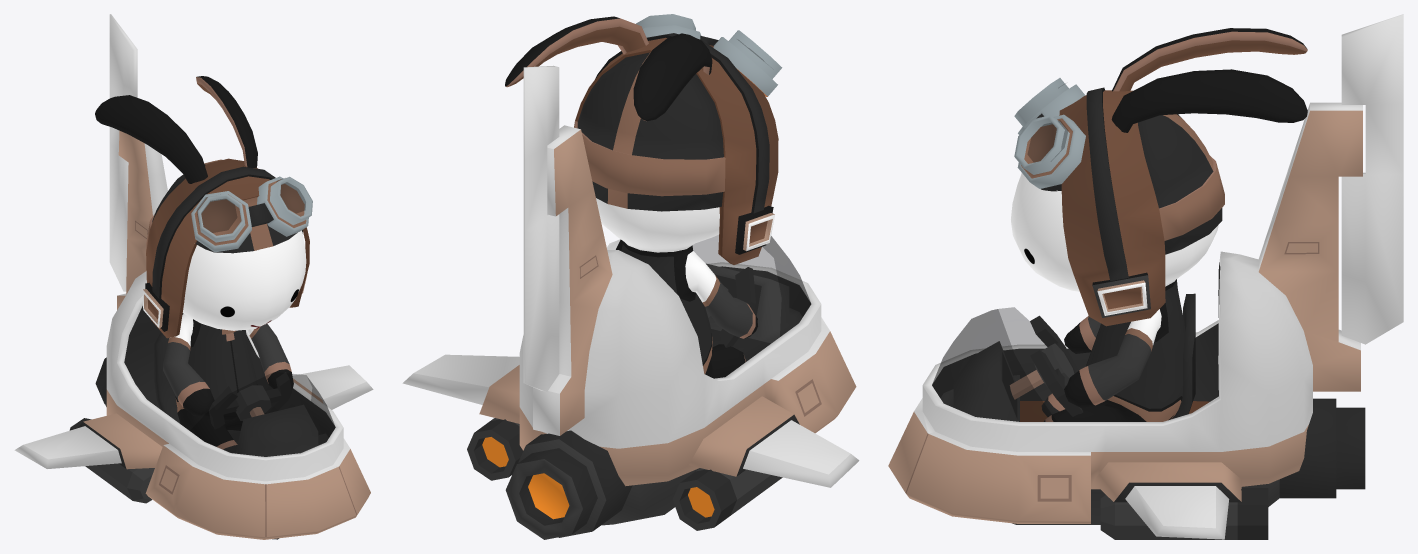
The model's file is airplane.glb.
3 renders of one model, left to right at view 1: azimuth 30°, elevation 25°; view 2: azimuth 150°, elevation 25°; view 3: azimuth 270°, elevation 25°, orthographic. The views are drawn at different scales.
Parts seen in each view (by area): view 1: airplane, airplane_qmimi_hat, airplane_qmimi, airplane_glass, airplane_qmimi_hat_glass; view 2: airplane, airplane_qmimi_hat, airplane_qmimi, airplane_glass; view 3: airplane, airplane_qmimi_hat, airplane_qmimi, airplane_glass, airplane_qmimi_hat_glass.
Boxes of the visible parts, bbox=[...] form: airplane: bbox=[14, 14, 373, 539]; airplane_qmimi_hat: bbox=[95, 76, 312, 338]; airplane_qmimi: bbox=[163, 230, 306, 453]; airplane_glass: bbox=[190, 372, 335, 456]; airplane_qmimi_hat_glass: bbox=[197, 178, 305, 232]; airplane: bbox=[402, 65, 859, 539]; airplane_qmimi_hat: bbox=[505, 14, 782, 264]; airplane_qmimi: bbox=[596, 198, 757, 378]; airplane_glass: bbox=[693, 235, 810, 336]; airplane: bbox=[888, 14, 1403, 539]; airplane_qmimi_hat: bbox=[1014, 28, 1307, 326]; airplane_qmimi: bbox=[1011, 173, 1218, 421]; airplane_glass: bbox=[932, 307, 1056, 421]; airplane_qmimi_hat_glass: bbox=[1028, 83, 1068, 162].
Bounding box in the file's own units: 5 × 5.82 × 5.36.
Materials: 2 (2 with a texture image).
